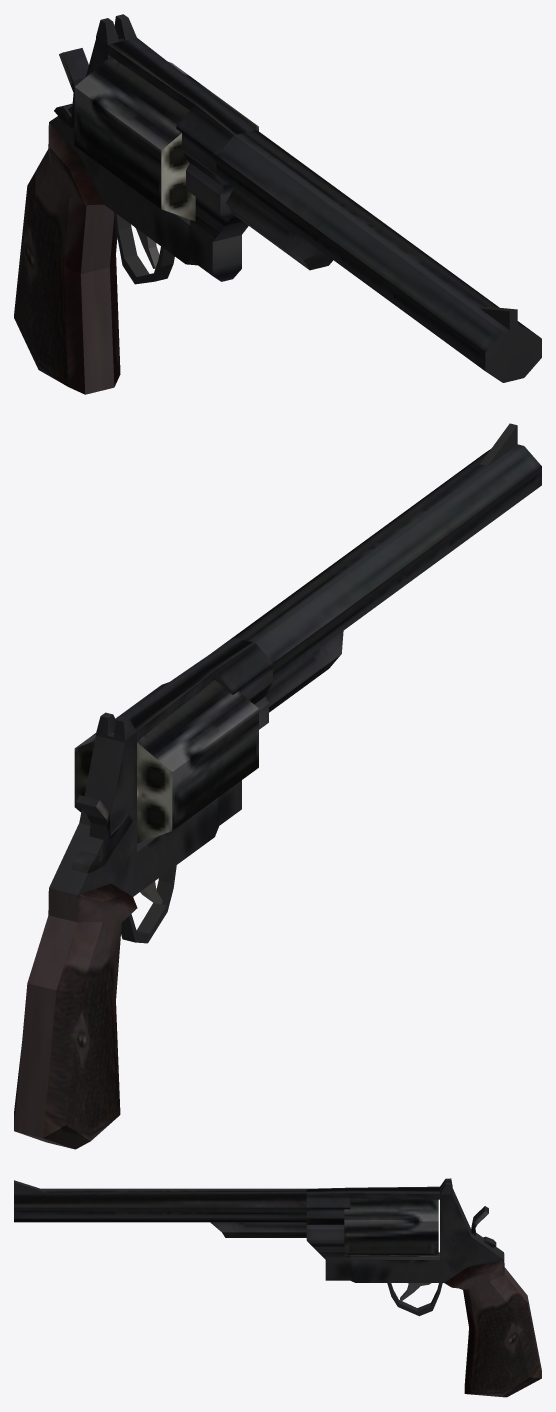
3 renders of one model, top to bottom at view 1: azimuth 30°, elevation 25°; view 2: azimuth 150°, elevation 25°; view 3: azimuth 270°, elevation 25°, orthographic. The views are drawn at different scales.
Parts seen in each view (by area): view 1: model 29, slide, hammer; view 2: model 29, slide, hammer; view 3: model 29, slide, hammer.
Boxes of the visible parts, x1,y1,x2,y2 form: model 29: (14, 14, 541, 394); slide: (74, 56, 258, 221); hammer: (54, 48, 88, 127); model 29: (14, 423, 541, 1149); slide: (74, 680, 258, 843); hammer: (71, 795, 132, 873); model 29: (14, 1178, 541, 1397); slide: (344, 1198, 438, 1256); hammer: (471, 1206, 496, 1247).
Bounding box in the file's own units: 32.71 × 125 × 282.
1 material, 1 textured.
